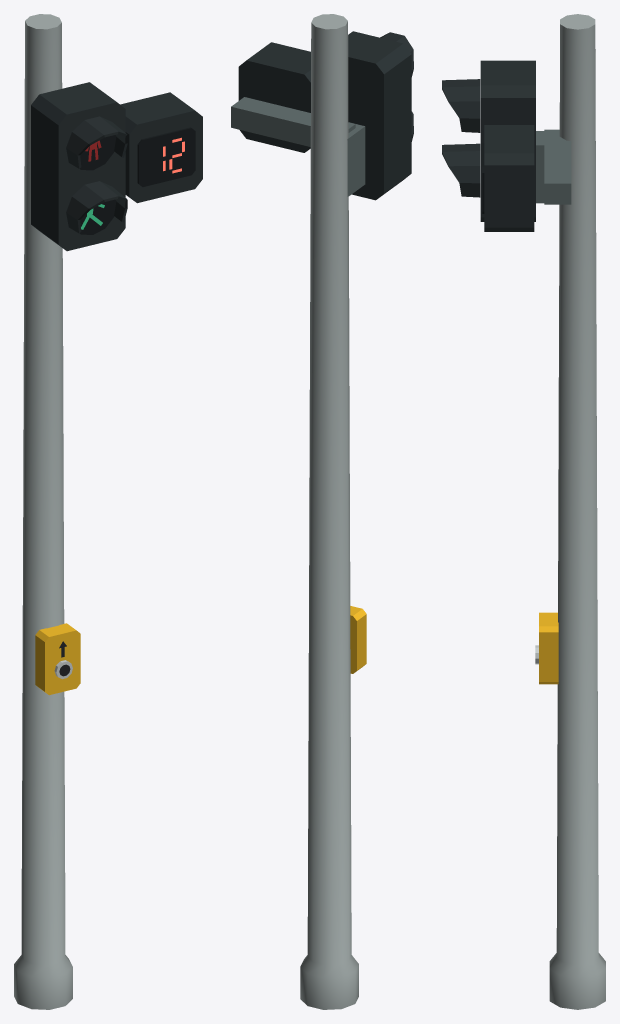
The model's file is sg-ped-signal.glb.
The picture shows the model from 3 angles, left to right: view 1: azimuth 30°, elevation 25°; view 2: azimuth 150°, elevation 25°; view 3: azimuth 270°, elevation 25°; orthographic projection.
Visible parts, largest first — view 1: signal_post, pedestrian_head, countdown_box, push_button; view 2: signal_post, pedestrian_head, countdown_box, countdown_mount, signal_bracket, push_button; view 3: signal_post, pedestrian_head, countdown_box, countdown_mount, push_button, signal_bracket.
Part boxes in pixels (x1,y1,x2,y2): signal_post: (14, 14, 72, 1009); pedestrian_head: (31, 82, 127, 251); countdown_box: (120, 92, 202, 203); push_button: (35, 623, 80, 695); signal_post: (300, 14, 358, 1009); pedestrian_head: (348, 31, 413, 200); countdown_box: (238, 42, 310, 152); countdown_mount: (231, 97, 355, 146); signal_bracket: (347, 122, 365, 196); push_button: (350, 606, 366, 673); signal_post: (549, 14, 605, 1009); pedestrian_head: (442, 60, 535, 221); countdown_box: (482, 125, 534, 231); countdown_mount: (544, 129, 571, 204); push_button: (535, 612, 558, 684); signal_bracket: (536, 131, 544, 203).
Size of the model in its own units: 0.4735 by 3.02 by 0.4595.
